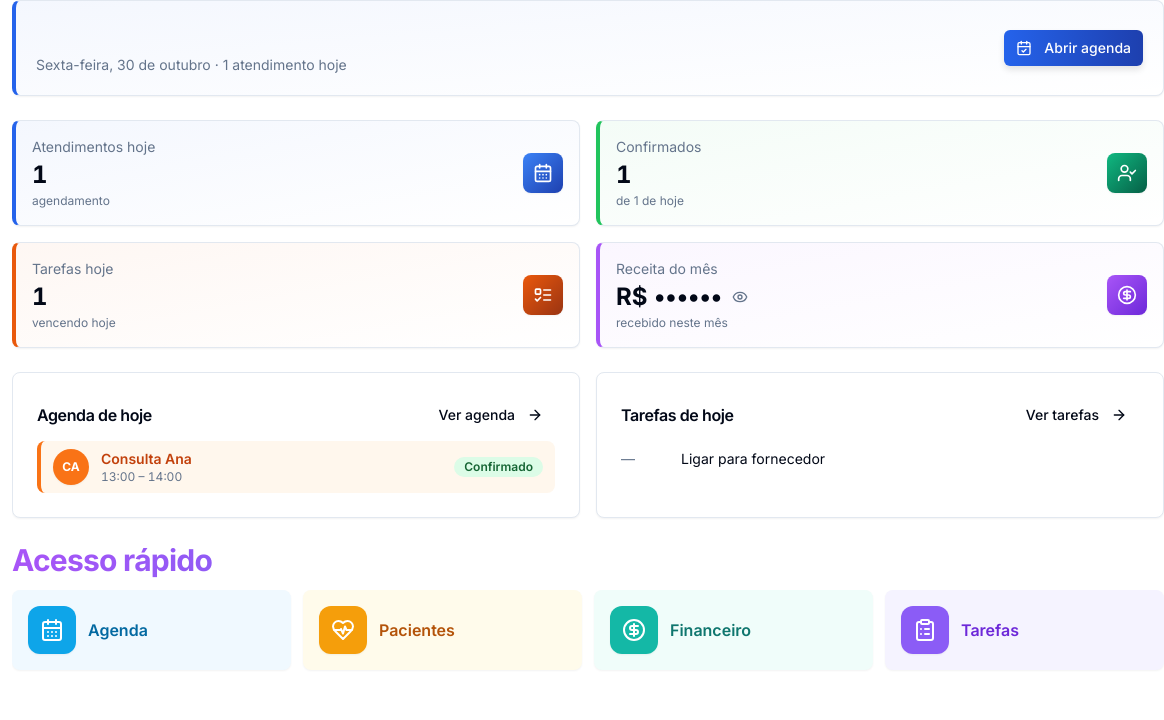
it: HomePage › esconde a receita até clicar no olho e mostra só 4 atalhos
The width and height of the screenshot is (1164, 720).
expect the text "R$ 1.500,00" is not shown: met
Click the button named "Mostrar valor" at (740, 297), box [728, 285, 752, 309]
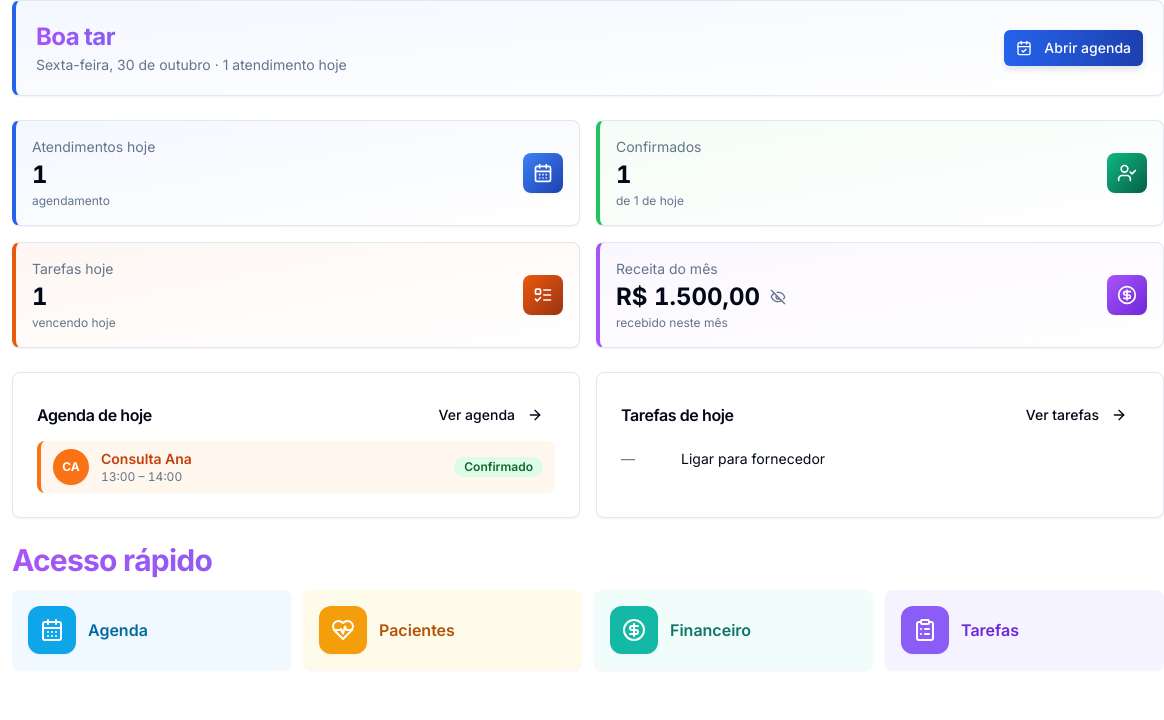
expect the text "CA" is shown: met, box [53, 449, 89, 485]
expect the text "R$ 1.500,00" is shown: met, box [616, 281, 760, 313]
